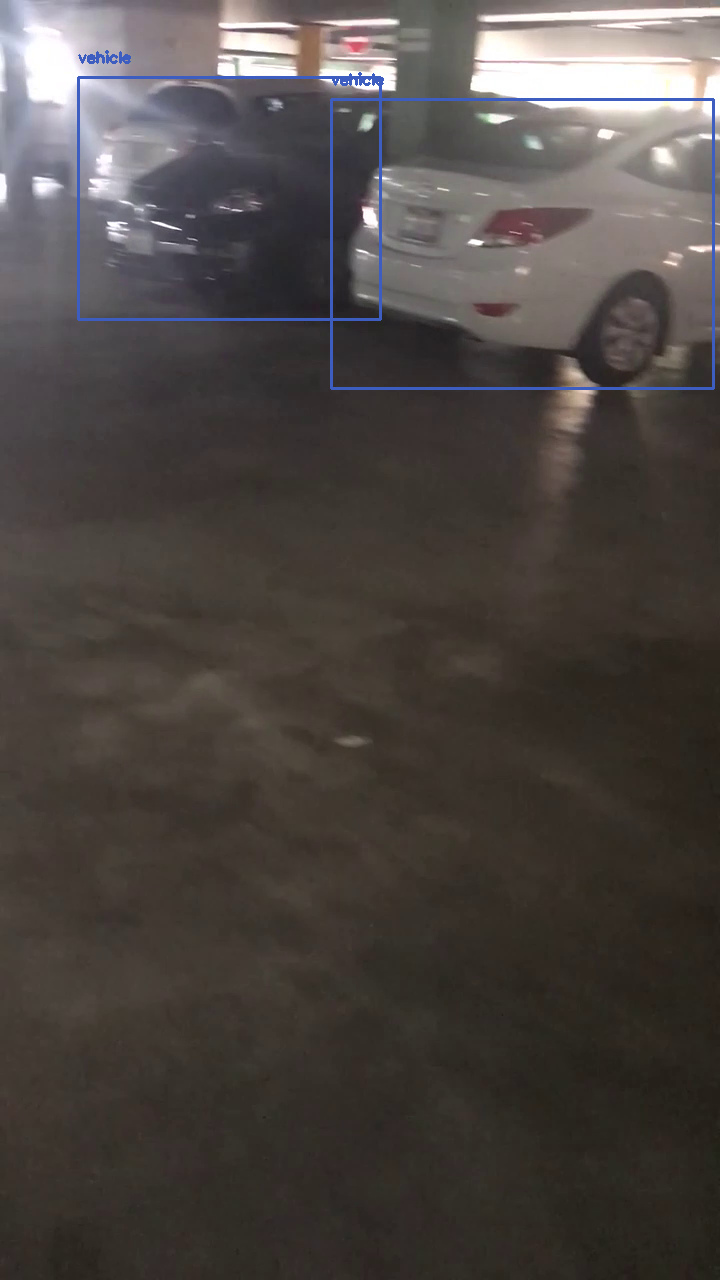vehicle: (331, 99, 713, 388), (78, 77, 380, 319)
